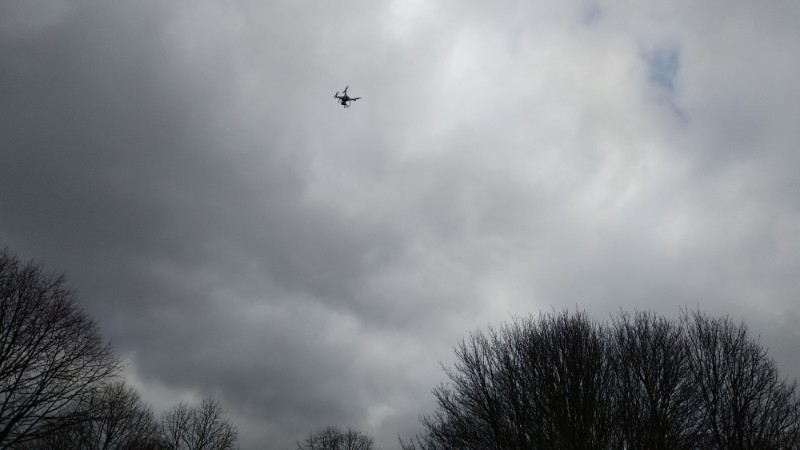drone: (334, 86, 361, 107)
